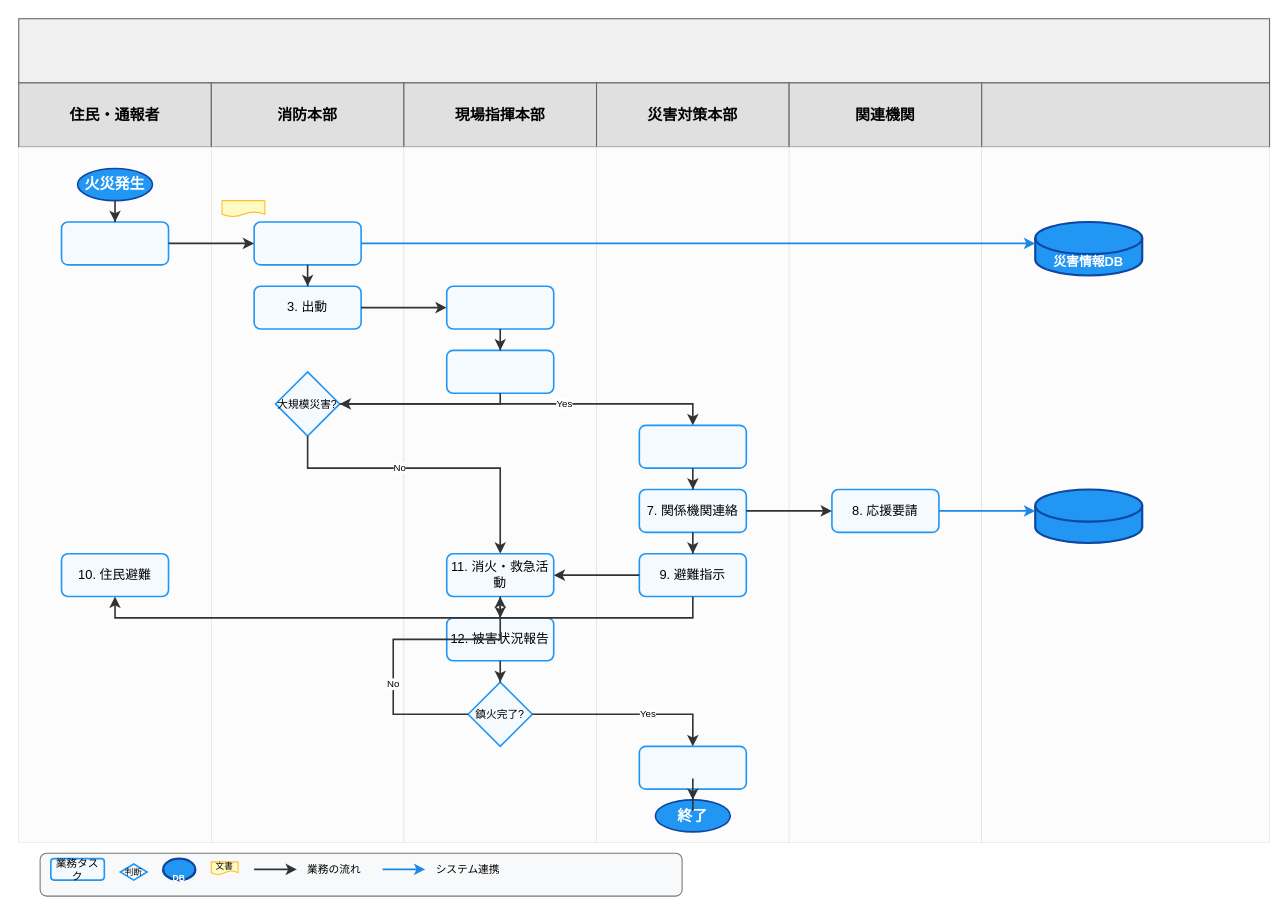
Image size: 1288x915. Some labels were removed from this diagram. The shapes that lost their labels are listed below. From the top down, each one's box as (x1, y1, x2, y2) in pixels, then its label:
(18, 18, 1270, 83): 火災発生時災害本部業務フロー 作成日：2025-01-24
(981, 82, 1270, 147): システム
(221, 200, 265, 217): 出動指令書
(60, 221, 169, 265): 1. 119番通報
(253, 221, 361, 265): 2. 通報受信
(445, 285, 554, 329): 4. 現場到着 初動活動
(445, 349, 554, 394): 5. 状況報告
(638, 424, 747, 468): 6. 災害本部設置
(1034, 488, 1143, 544): 応援要請DB
(638, 745, 747, 789): 13. 復旧活動
